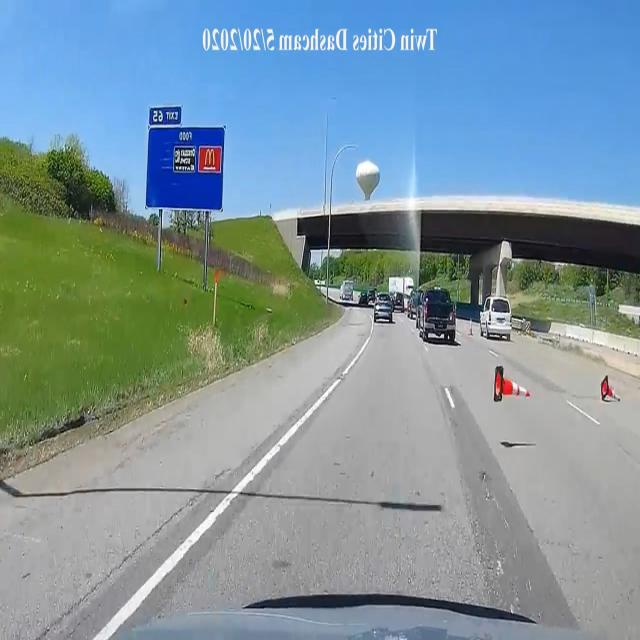cone: (495, 369, 531, 403), (598, 377, 620, 403)
